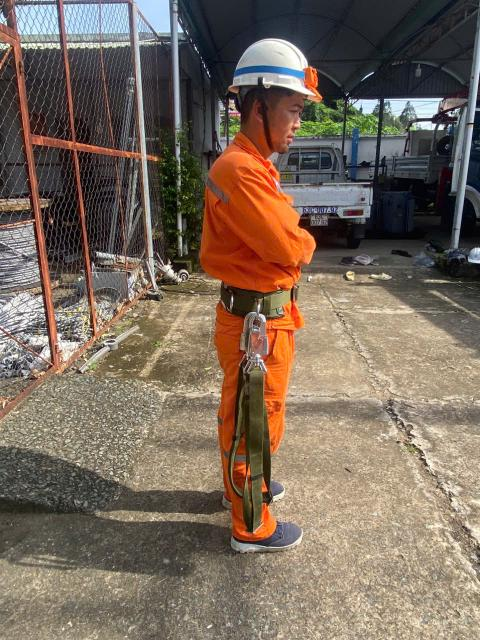harness: (205, 271, 309, 333)
helmet: (222, 23, 342, 107)
shoes: (228, 517, 304, 558), (215, 471, 292, 509)
